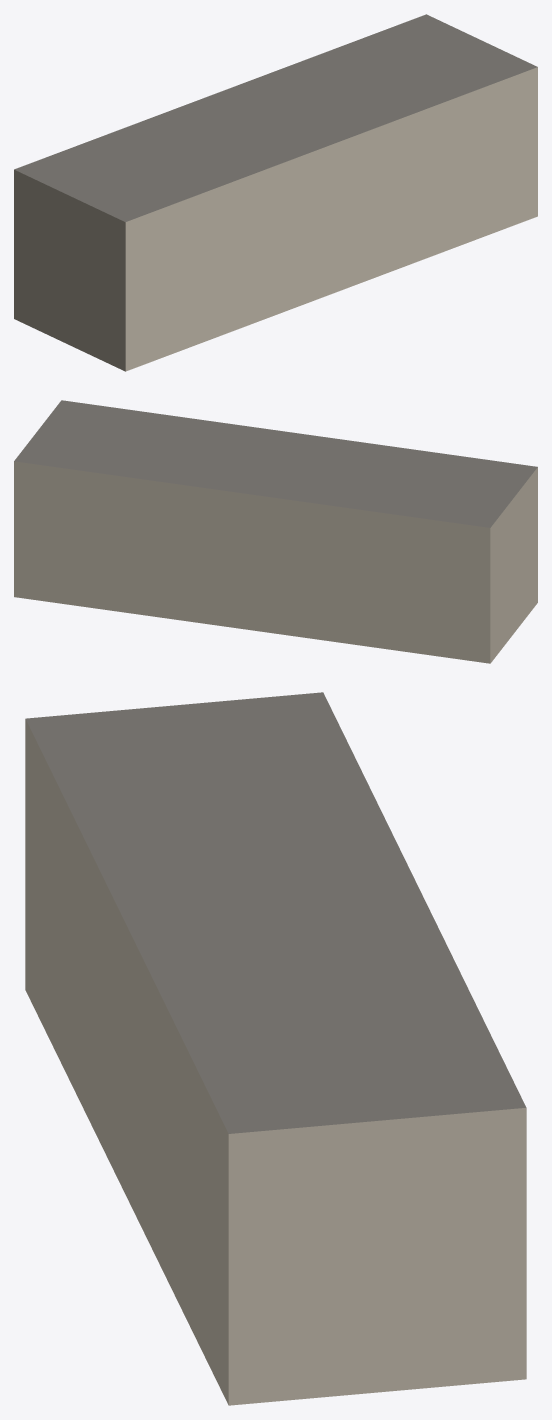
3 renders of one model, top to bottom at view 1: azimuth 30°, elevation 25°; view 2: azimuth 150°, elevation 25°; view 3: azimuth 270°, elevation 25°, orthographic. The views are drawn at different scales.
Visible parts, largest first — view 1: HP-w859488638; view 2: HP-w859488638; view 3: HP-w859488638.
Part boxes in pixels (box(x1,y1,x2,y2)): HP-w859488638: box(14, 14, 537, 371); HP-w859488638: box(14, 400, 537, 663); HP-w859488638: box(25, 692, 526, 1405).
Bounding box in the file's own units: 62.77 × 18 × 30.09.
